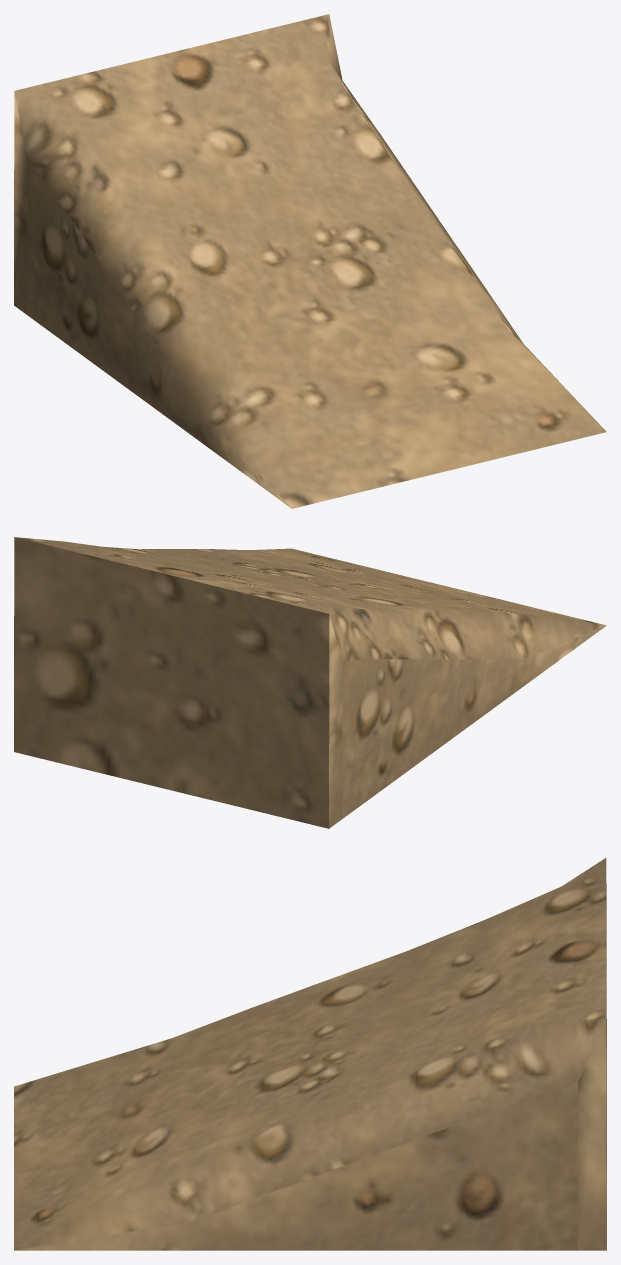
The model's file is UpperPlatformV2.fbx.
The picture shows the model from 3 angles, top to bottom: view 1: azimuth 30°, elevation 25°; view 2: azimuth 150°, elevation 25°; view 3: azimuth 270°, elevation 25°; orthographic projection. The views are drawn at different scales.
Visible parts, largest first — view 1: polySurface2; view 2: polySurface2; view 3: polySurface2.
Part boxes in pixels (x1,y1,x2,y2): polySurface2: [14, 14, 606, 508]; polySurface2: [14, 537, 606, 828]; polySurface2: [14, 858, 606, 1250].
Bounding box in the file's own units: 310 × 202 × 474.
